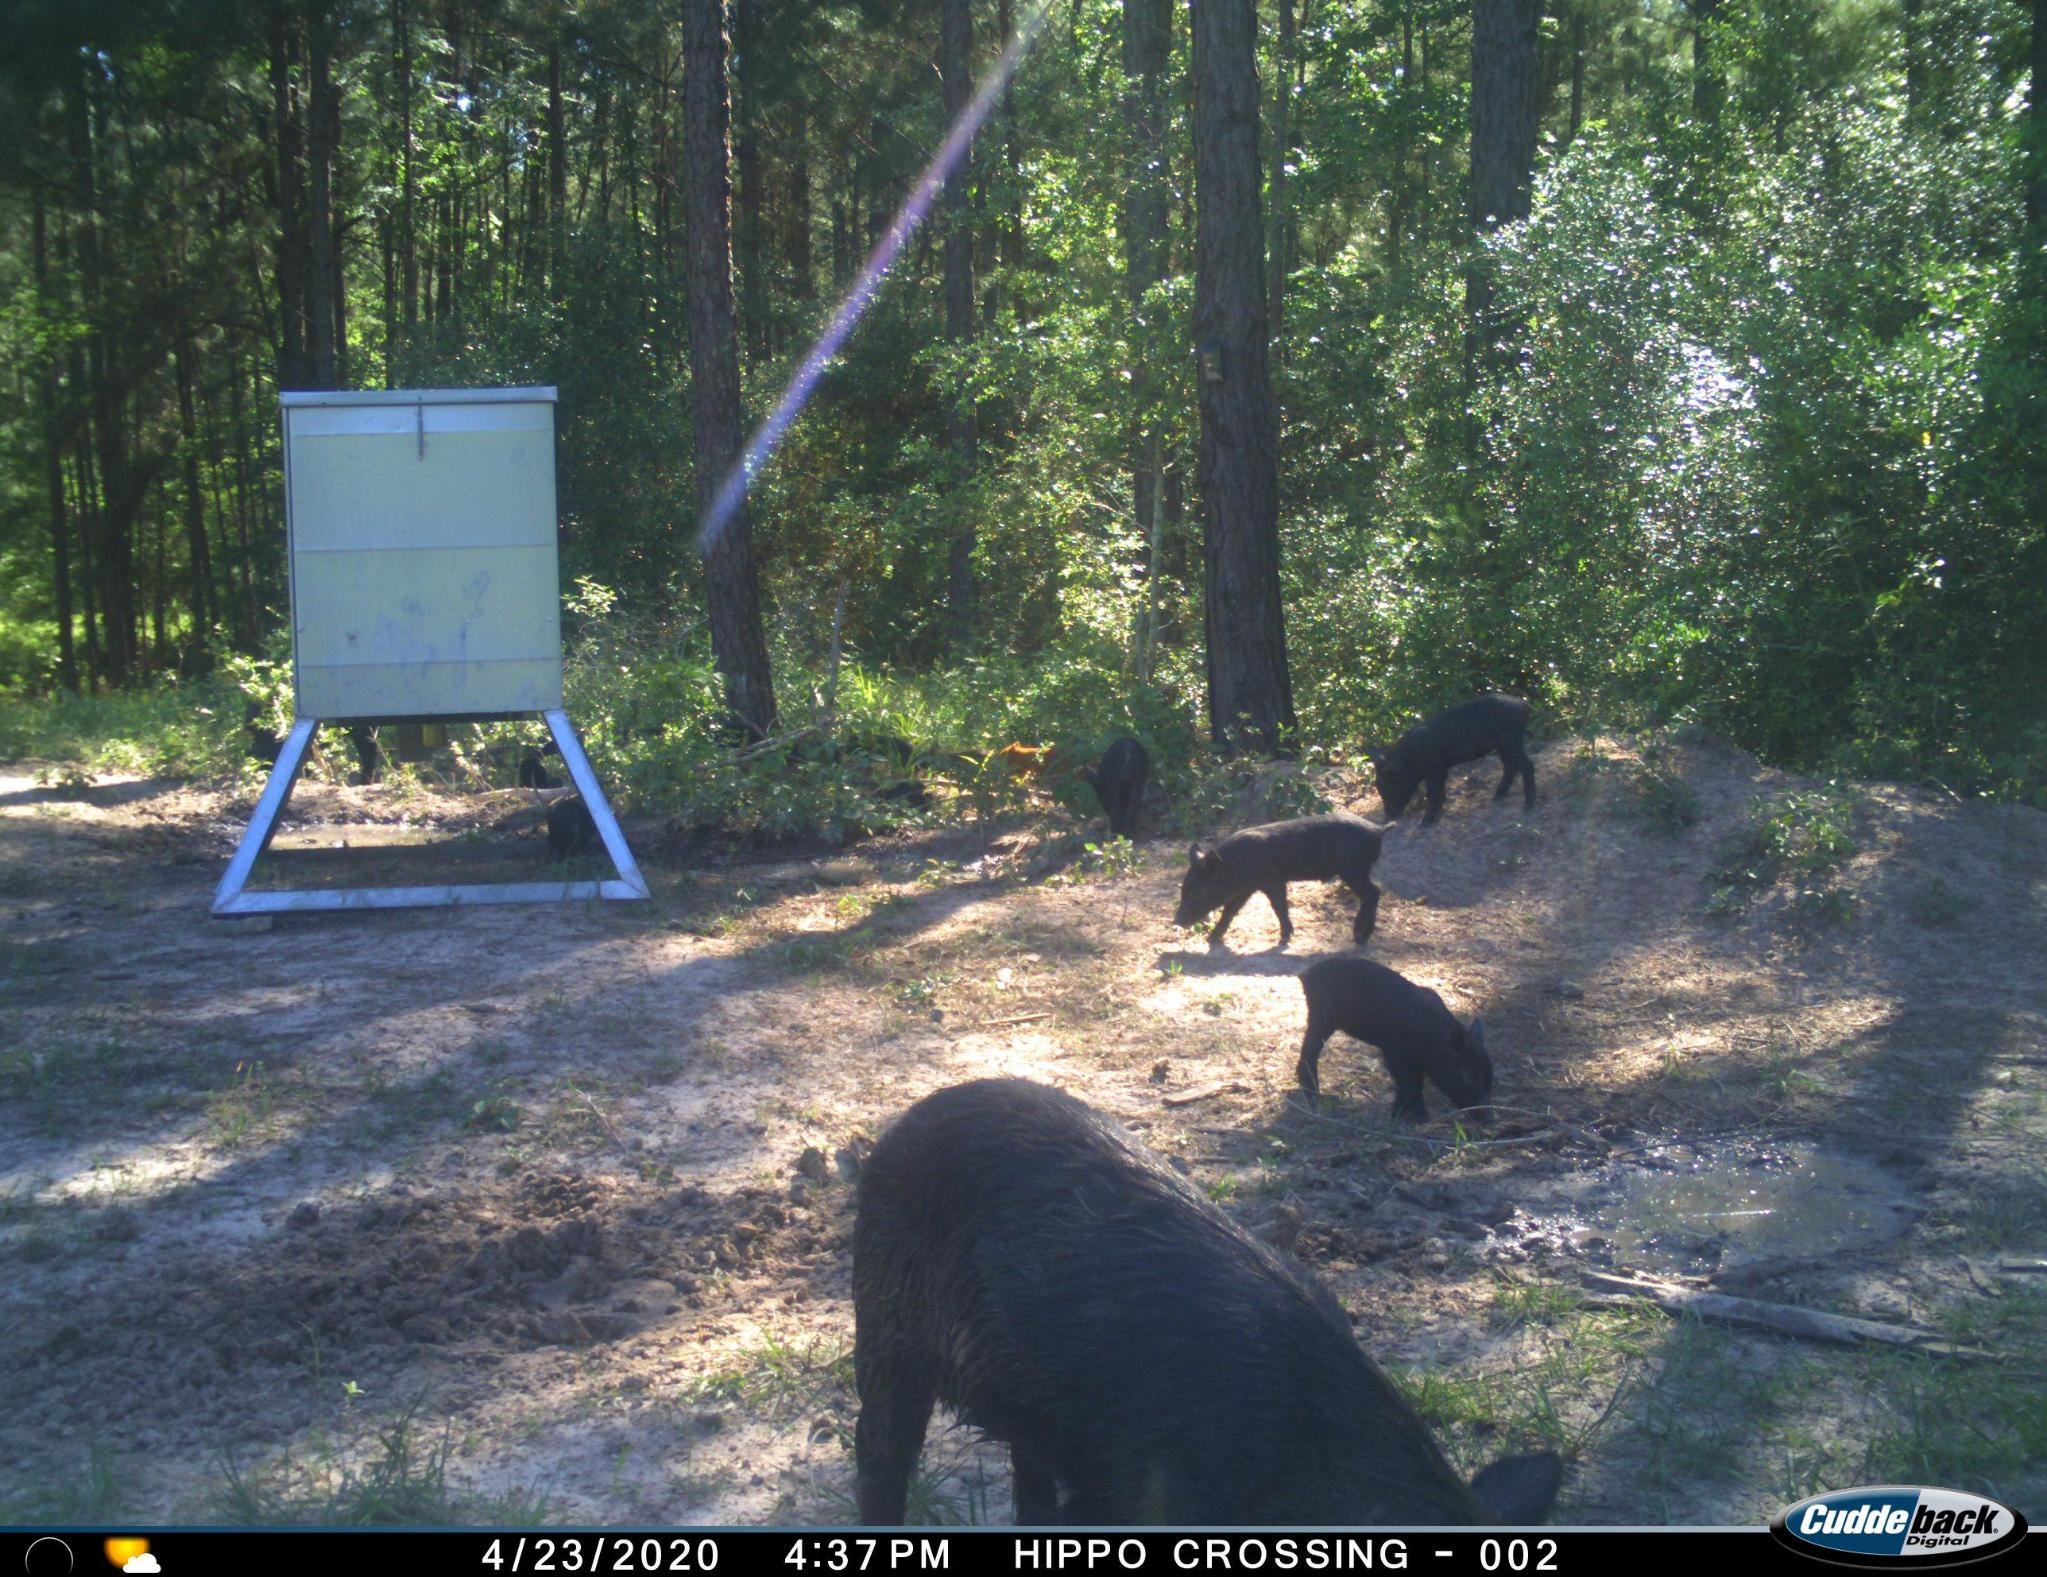Hog: (835, 1063, 1582, 1532), (1285, 952, 1502, 1140), (1164, 807, 1413, 964), (1348, 687, 1552, 838), (1085, 734, 1158, 846), (982, 734, 1075, 798)
